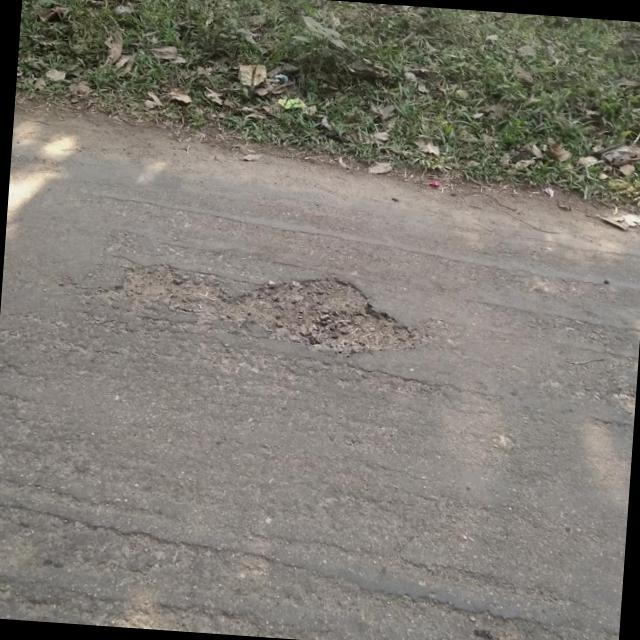Lubang: (117, 264, 418, 354)
